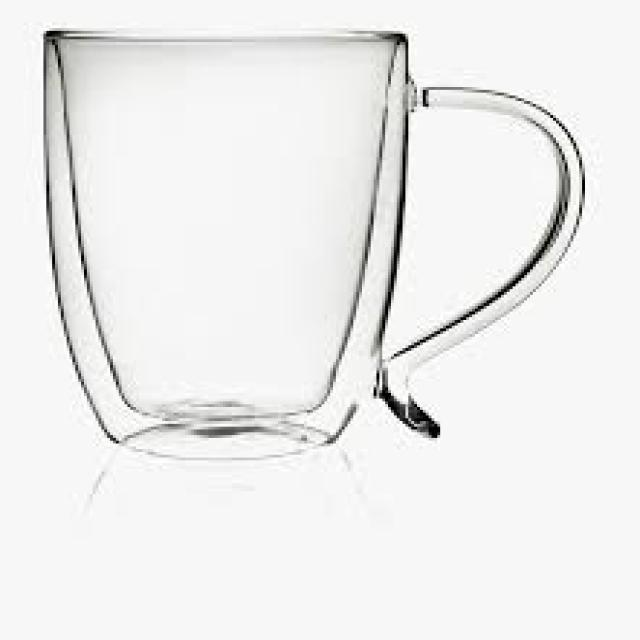glass: (41, 25, 579, 455)
